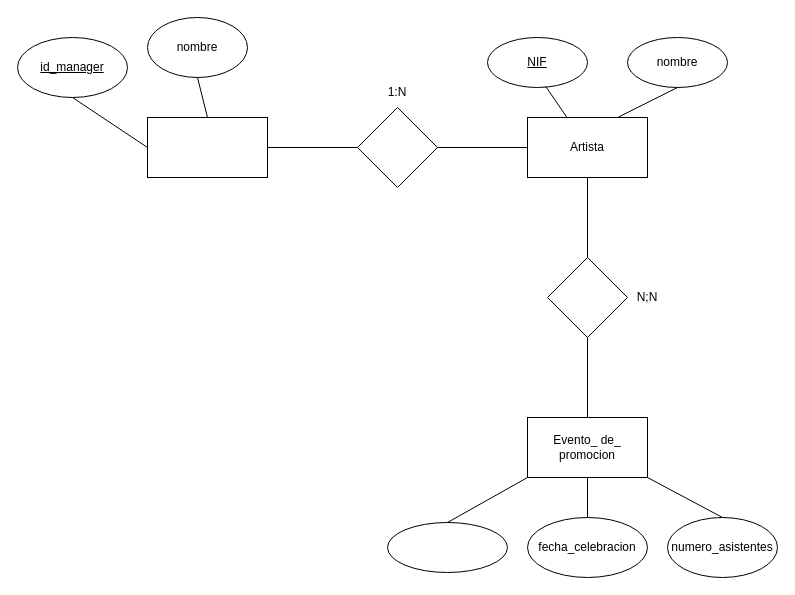
This 795x595 diagram has some shape labels left out. The centre of each missing label's shape, as x and y in pixels:
"id_evento" goes at (x=447, y=547).
"Manager" goes at (x=207, y=147).
"participar" goes at (x=587, y=297).
"Representa" goes at (x=397, y=147).
